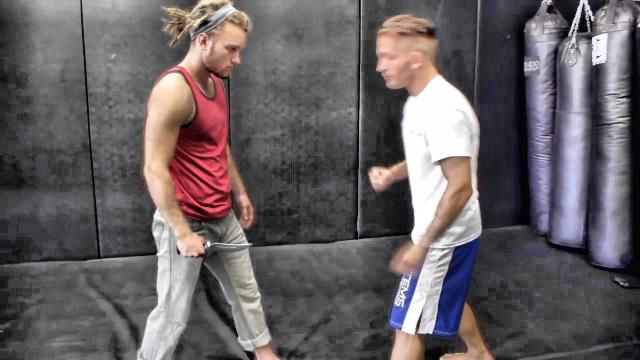knife: (172, 237, 256, 259)
